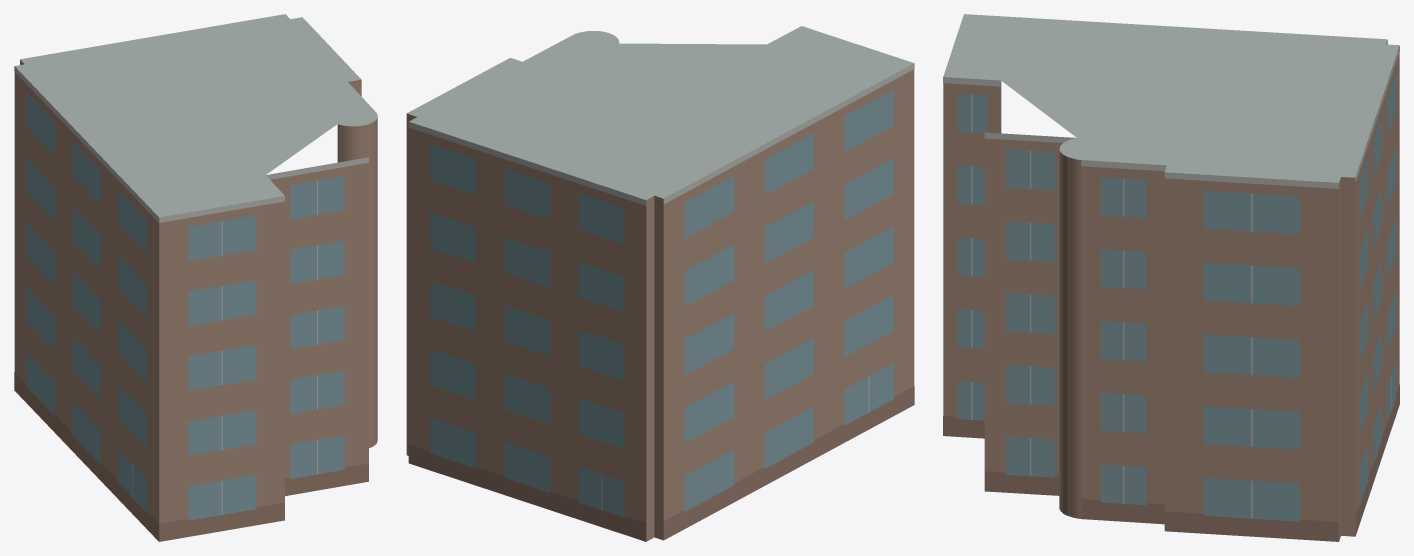
The model's file is survey-upis-32959946.glb.
3 renders of one model, left to right at view 1: azimuth 30°, elevation 25°; view 2: azimuth 150°, elevation 25°; view 3: azimuth 270°, elevation 25°, orthographic. The views are drawn at different scales.
Parts seen in each view (by area): view 1: survey-upis-32959946.tmp; view 2: survey-upis-32959946.tmp; view 3: survey-upis-32959946.tmp.
Part boxes in pixels (bbox=[...]): survey-upis-32959946.tmp: bbox=[14, 14, 377, 541]; survey-upis-32959946.tmp: bbox=[406, 26, 914, 541]; survey-upis-32959946.tmp: bbox=[943, 14, 1399, 541].
Size of the model in its own units: 14.54 by 14.4 by 16.61.
